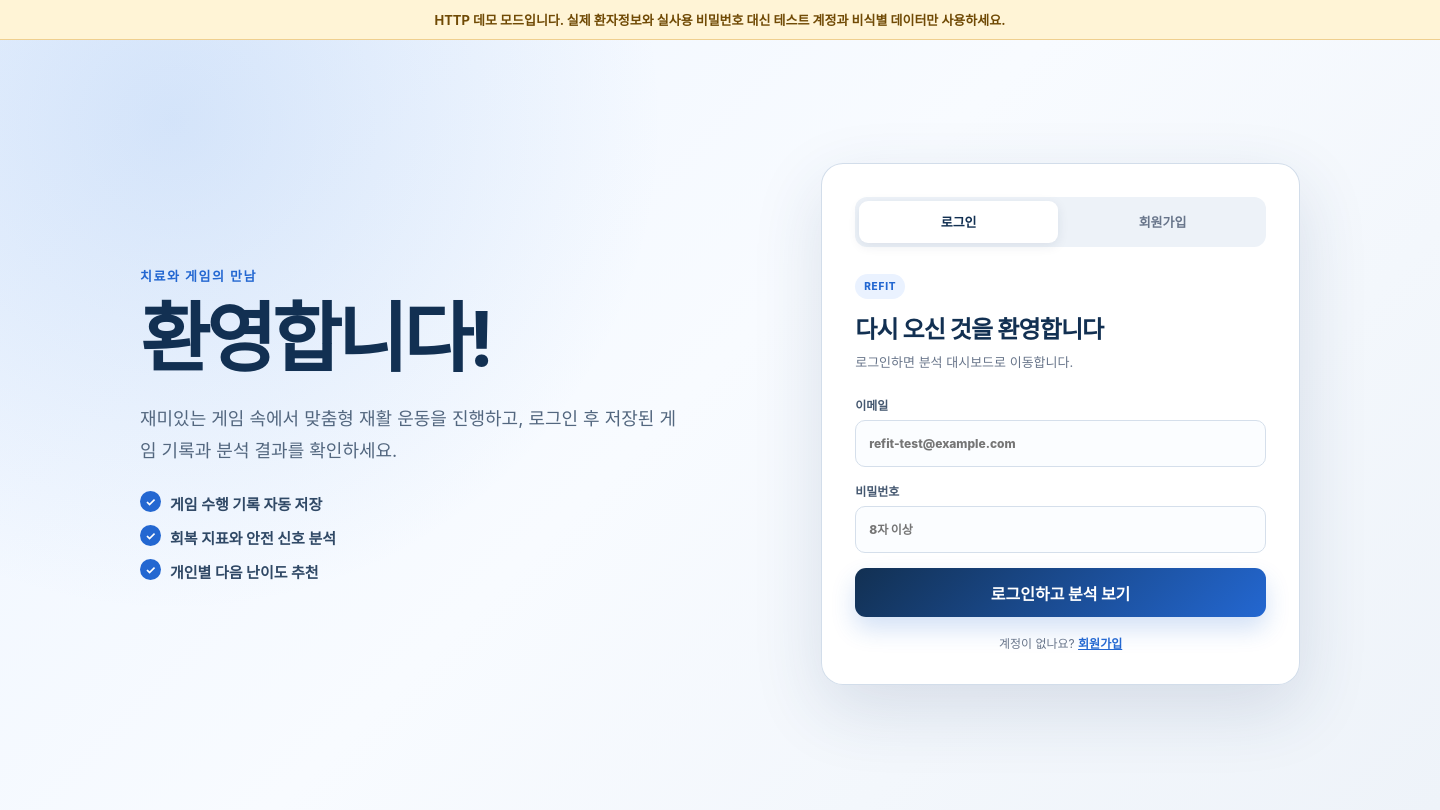
Test: logs in, loads histories, and only then opens the analysis dashboard
The image size is (1440, 810).
Type "  test@example.com  " into the field labelled "이메일".
click(1061, 444); type("  test@example.com  ")  # box [855,420,1266,467]
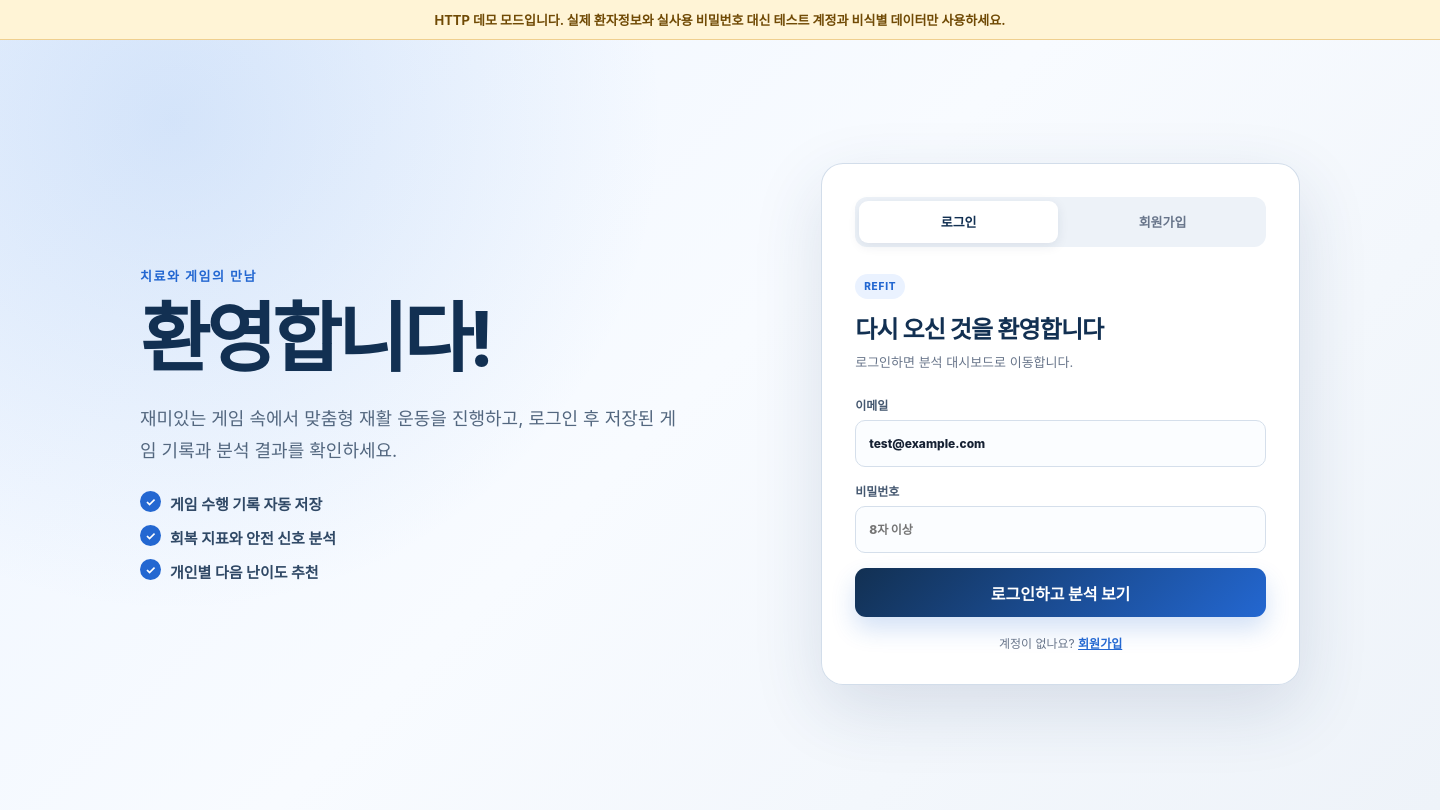
Type "RefitDemo!1234" into the password field labelled "비밀번호".
click(1061, 530); type("RefitDemo!1234")  # box [855,506,1266,553]
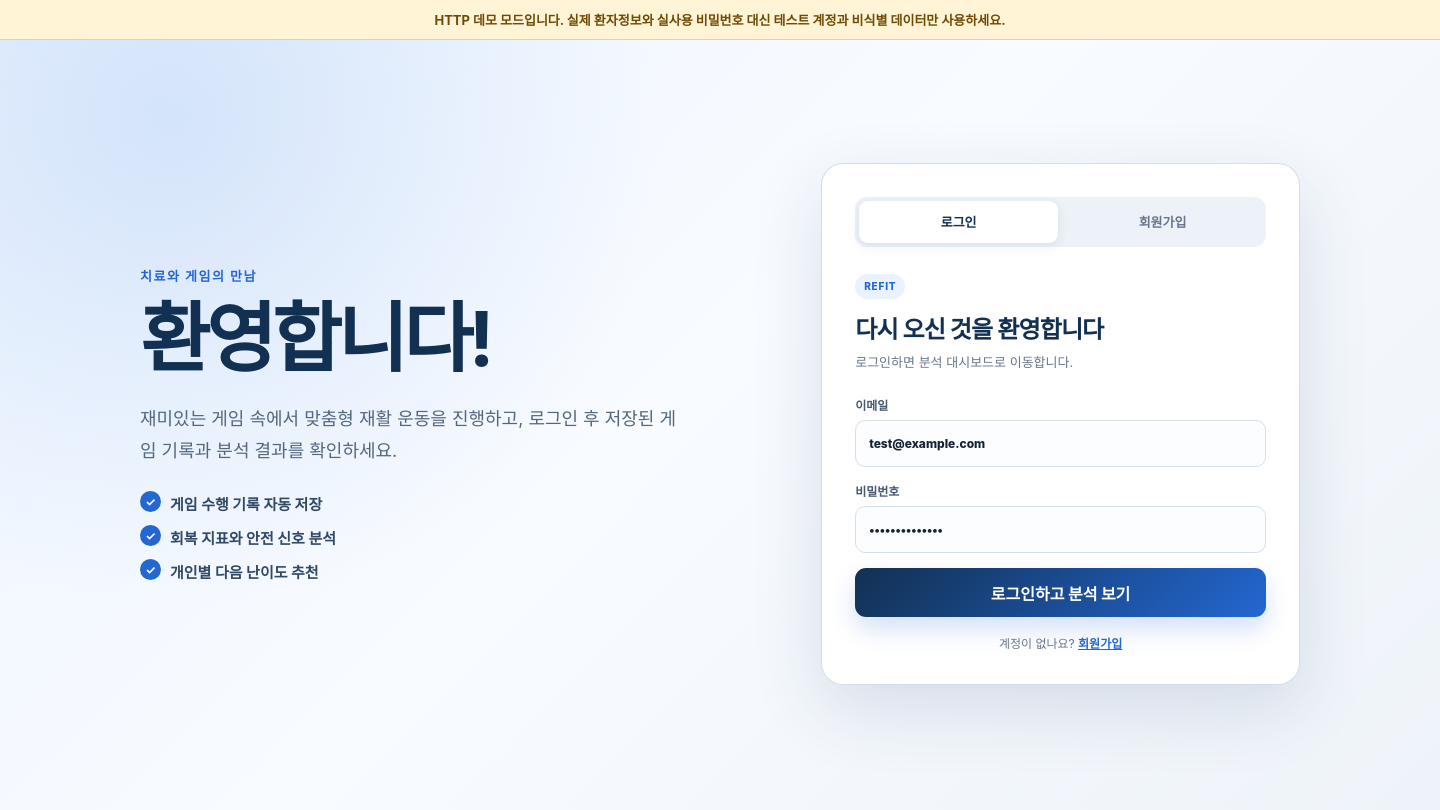
Click the button "로그인하고 분석 보기".
click(1061, 593)  # box [855,568,1266,617]
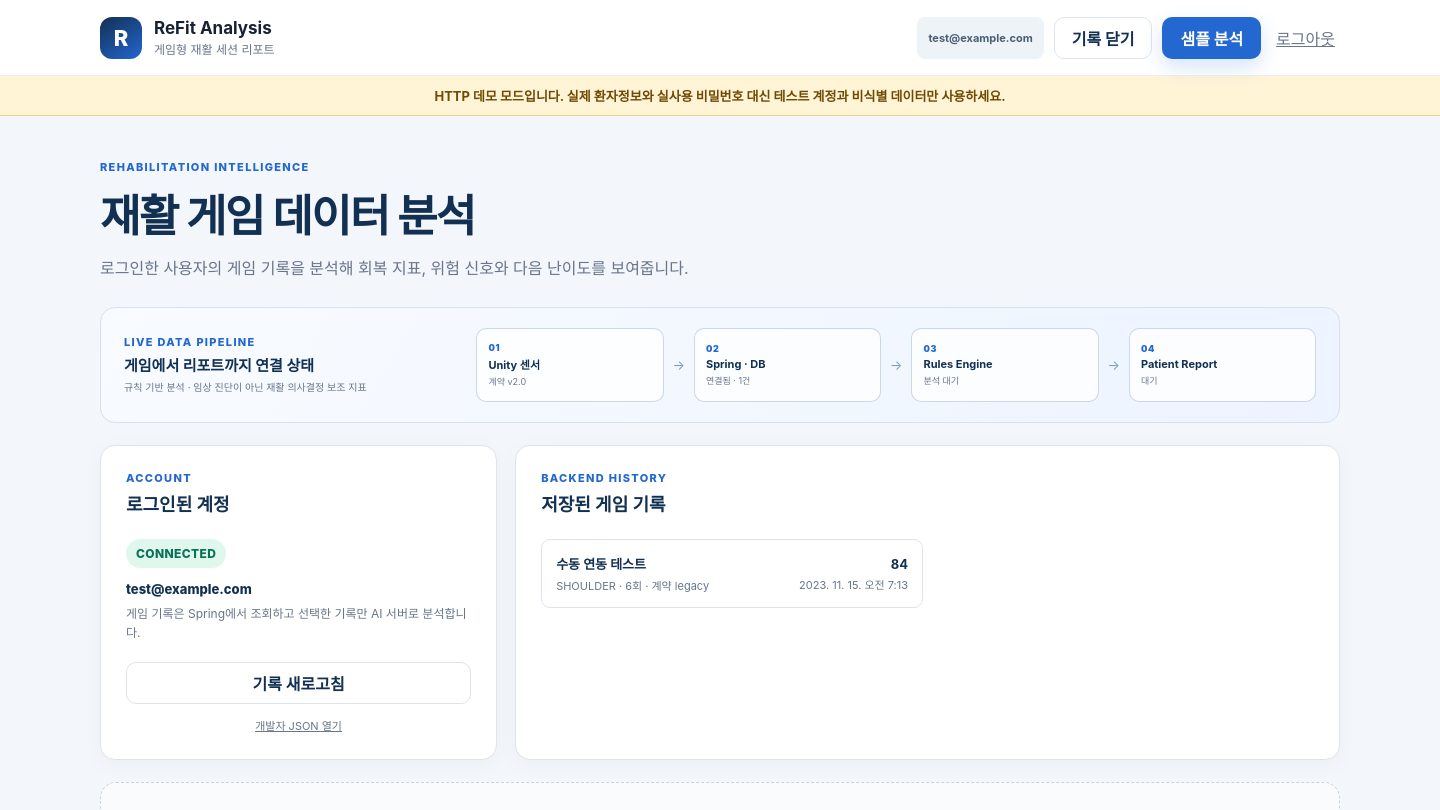
expect the heading "재활 게임 데이터 분석" is shown: met, box [100,189,474,243]
expect the text "수동 연동 테스트" is shown: met, box [556,556,646,572]
expect the text "2023. 11. 15. 오전 7:13" is shown: met, box [799,576,908,592]
